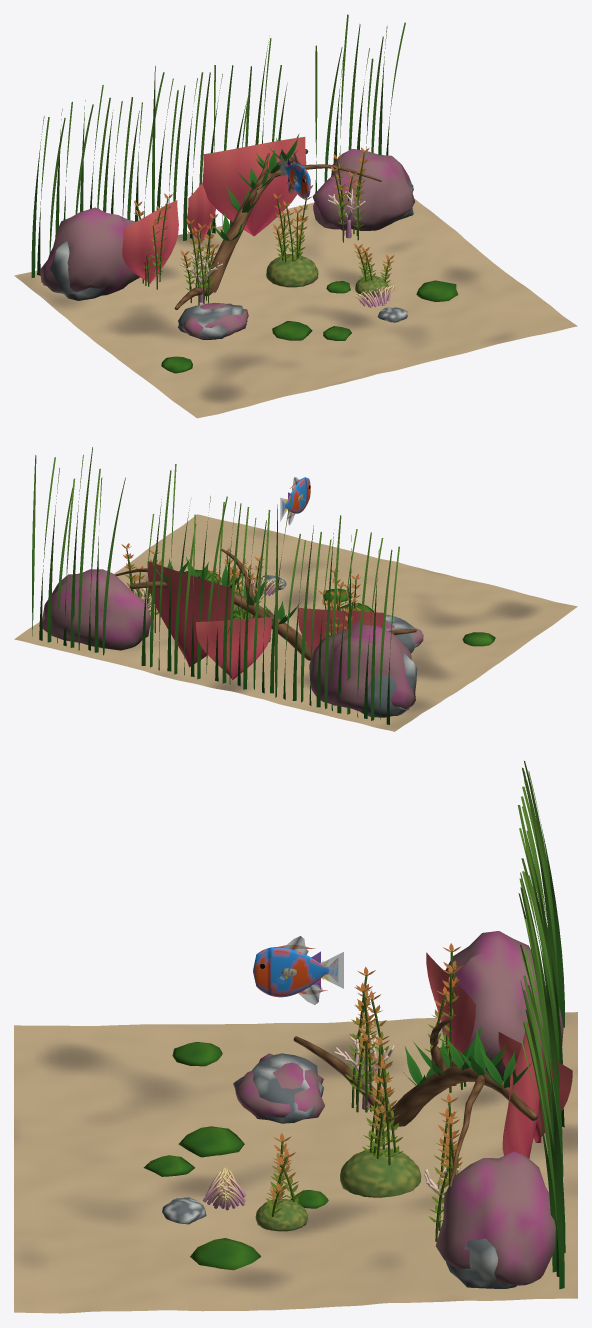
File: aquarium-scape.glb
3 views of the same model, one above another, from view 1: azimuth 30°, elevation 25°; view 2: azimuth 150°, elevation 25°; view 3: azimuth 270°, elevation 25° (orthographic). The views are drawn at different scales.
Parts seen in each view (by area): view 1: substrate, reef-rocks, fresh-plant-vallisneria, reef-coral-fan, fresh-plant-rotala, fresh-rocks, fresh-plant-moss, fresh-driftwood, reef-coral-brain, fresh-plant-fern, reef-coral-staghorn, discus-body (+1 smaller); view 2: substrate, fresh-plant-vallisneria, reef-rocks, reef-coral-fan, fresh-plant-rotala, fresh-rocks, fresh-driftwood, fresh-plant-moss, fresh-plant-fern, discus-body; view 3: substrate, reef-rocks, fresh-plant-vallisneria, fresh-plant-rotala, reef-coral-fan, fresh-plant-moss, fresh-rocks, fresh-driftwood, reef-coral-brain, discus-body, fresh-plant-fern, angel-fins (+2 smaller).
Boxes of the visible parts, x1,y1,x2,y2 form: substrate: (14, 198, 577, 418); reef-rocks: (40, 149, 415, 339); fresh-plant-vallisneria: (31, 14, 405, 277); reef-coral-fan: (122, 137, 306, 283); fresh-plant-rotala: (134, 147, 394, 304); fresh-rocks: (43, 181, 413, 339); fresh-plant-moss: (161, 280, 458, 373); fresh-driftwood: (174, 149, 381, 309); reef-coral-brain: (266, 254, 388, 296); fresh-plant-fern: (213, 133, 299, 241); reef-coral-staghorn: (180, 188, 365, 302); discus-body: (285, 163, 310, 198); substrate: (14, 514, 577, 731); fresh-plant-vallisneria: (32, 447, 399, 724); reef-rocks: (39, 569, 423, 711); reef-coral-fan: (147, 561, 383, 680); fresh-plant-rotala: (121, 543, 366, 636); fresh-rocks: (261, 575, 419, 717); fresh-driftwood: (115, 548, 416, 660); fresh-plant-moss: (183, 569, 495, 646); fresh-plant-fern: (150, 557, 299, 624); discus-body: (285, 477, 310, 513); substrate: (14, 1012, 577, 1313); reef-rocks: (235, 931, 563, 1285); fresh-plant-vallisneria: (517, 761, 565, 1289); fresh-plant-rotala: (264, 943, 466, 1241); reef-coral-fan: (426, 952, 572, 1158); fresh-plant-moss: (143, 1042, 328, 1270); fresh-rocks: (162, 1053, 516, 1288); fresh-driftwood: (293, 1017, 537, 1187); reef-coral-brain: (255, 1148, 421, 1231); discus-body: (253, 947, 328, 997); fresh-plant-fern: (403, 1026, 531, 1088); angel-fins: (279, 936, 343, 1004).
Bounding box in the file's own units: 2.4 × 1.25 × 2.
